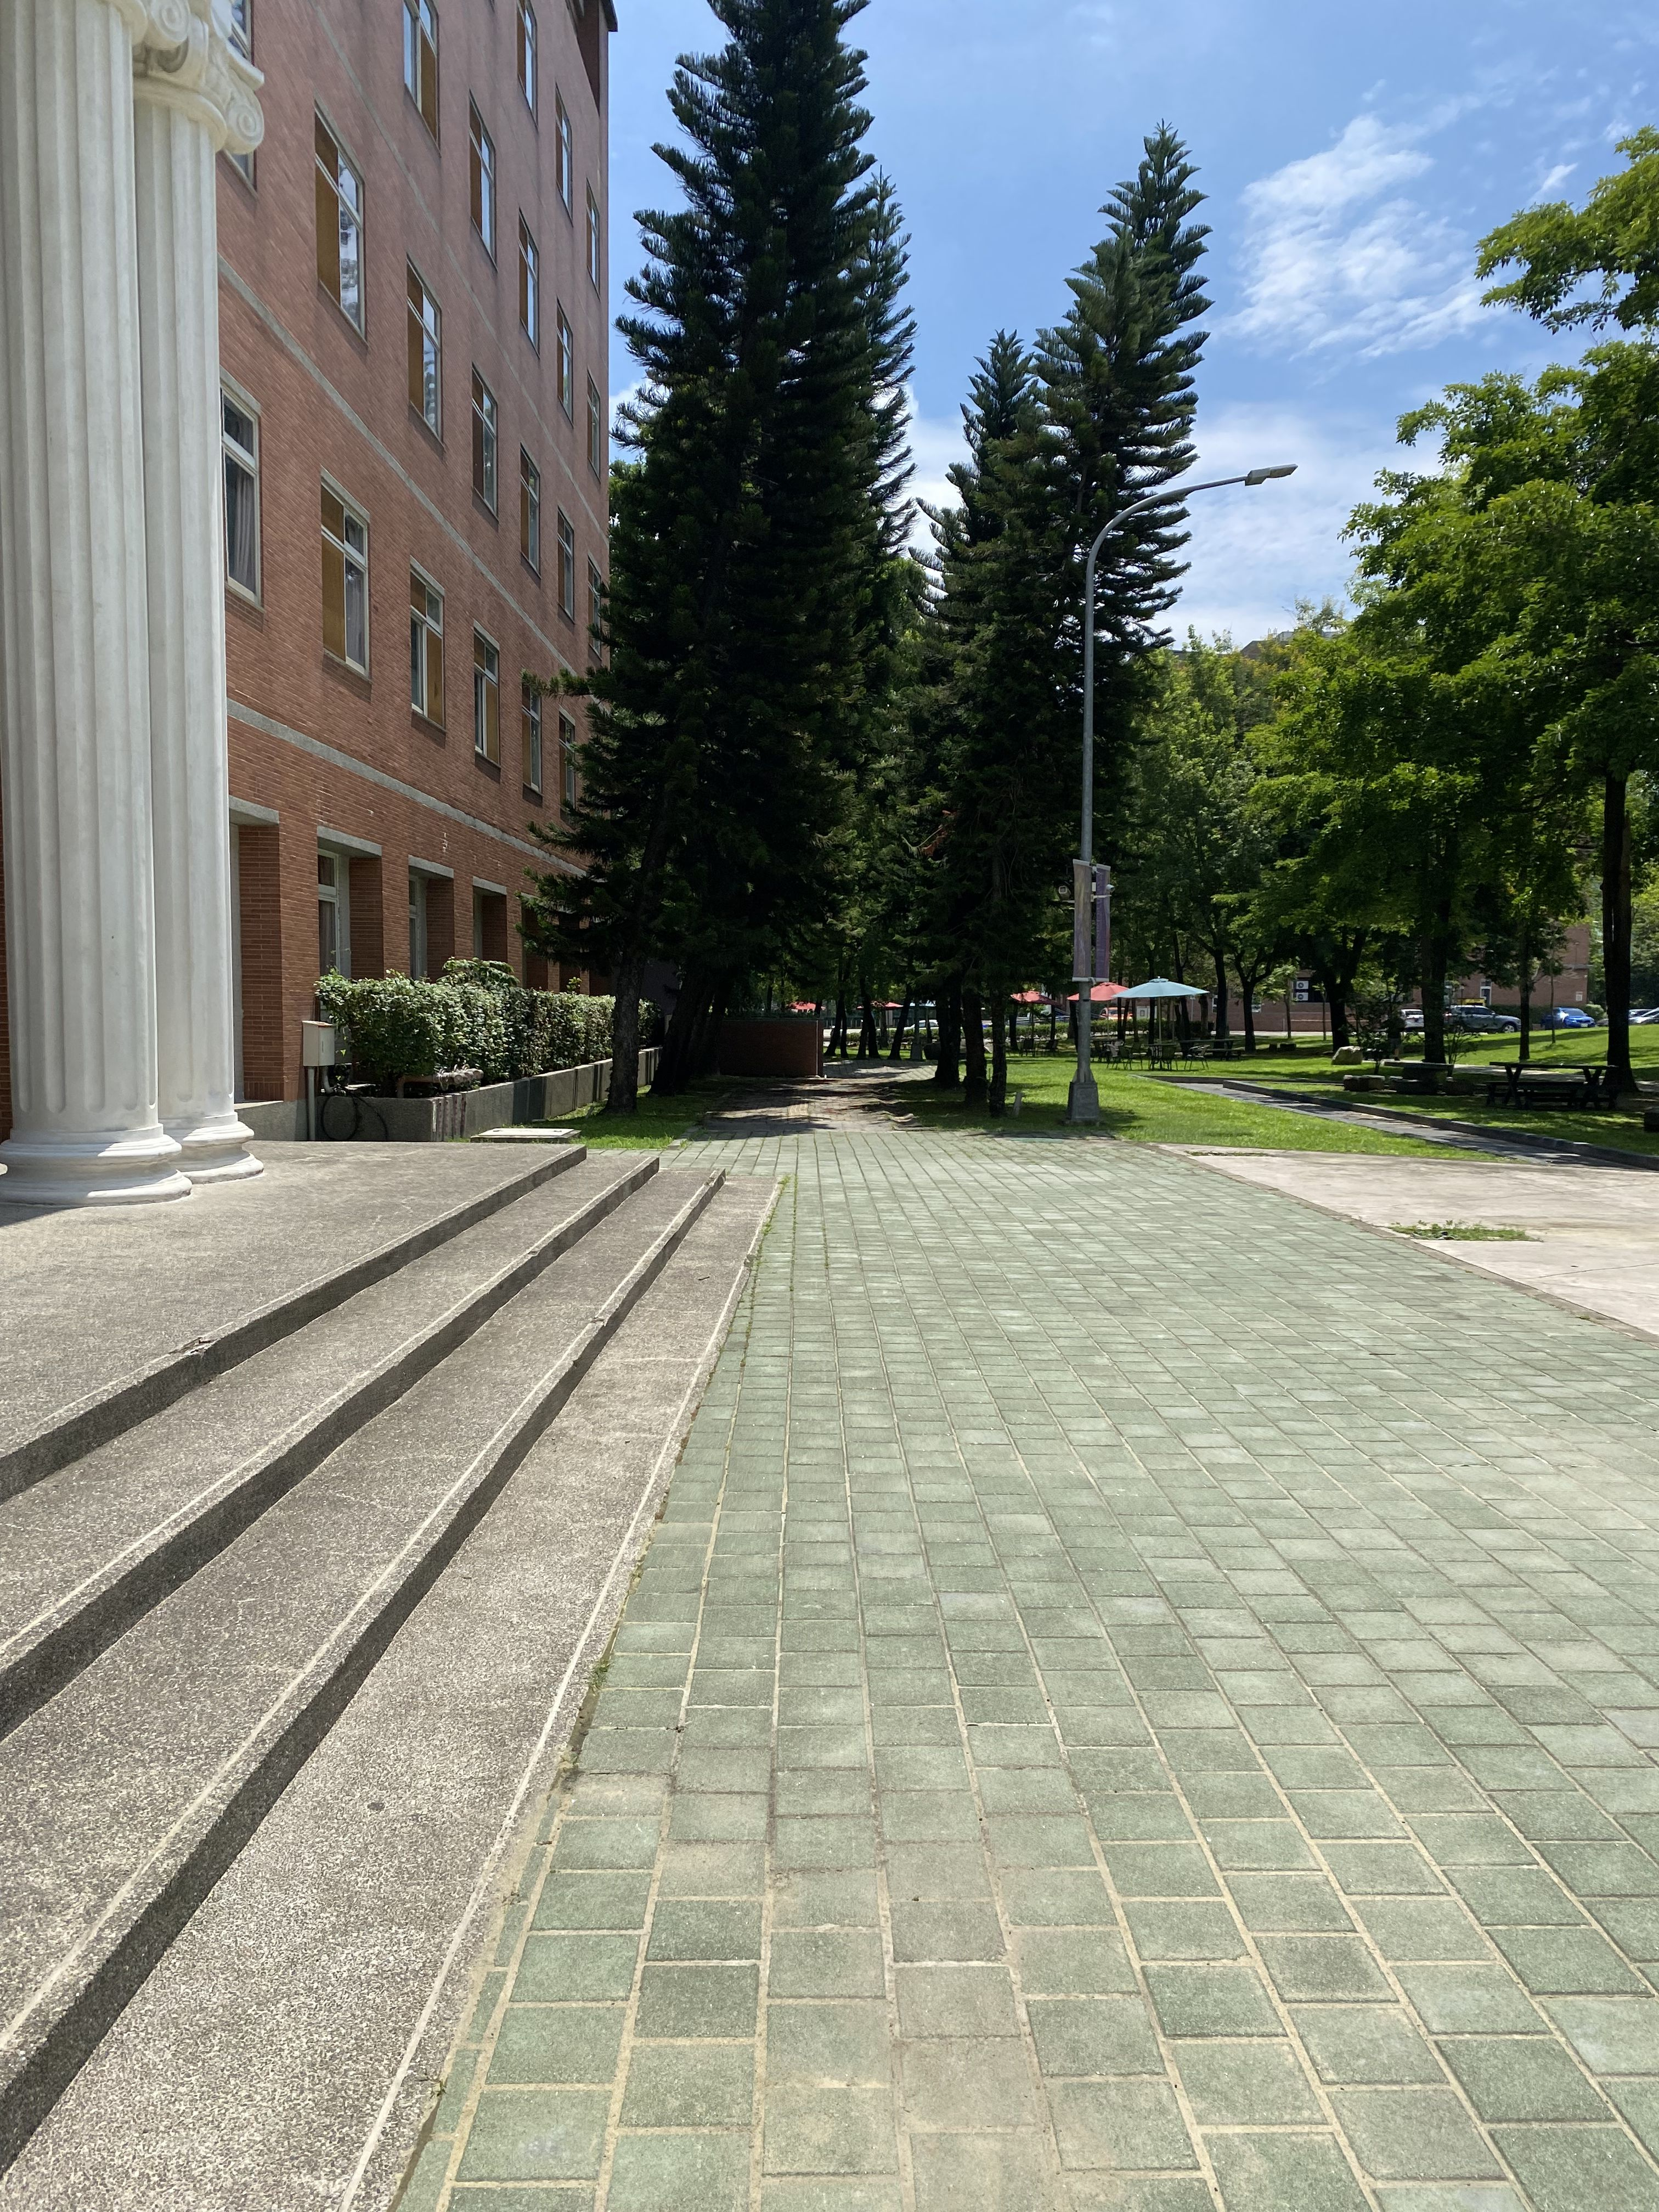sidewalk: (408, 998, 1659, 2212)
